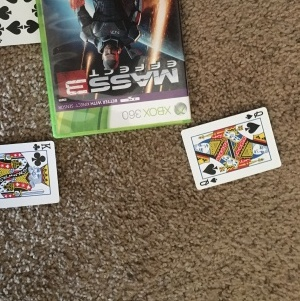card: (181, 109, 282, 192)
